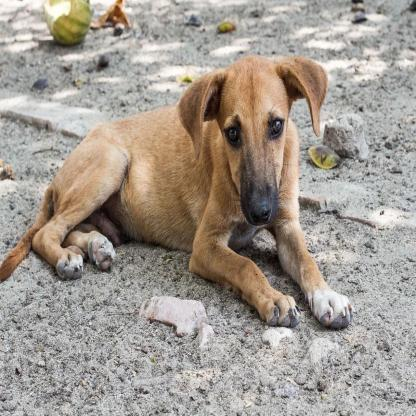dog: (16, 27, 352, 340)
